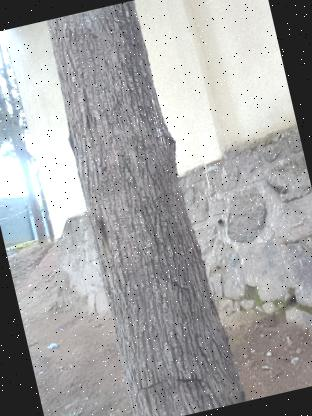tree: (37, 0, 249, 416)
